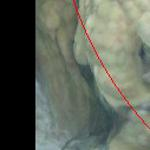alive: (36, 1, 148, 148)
